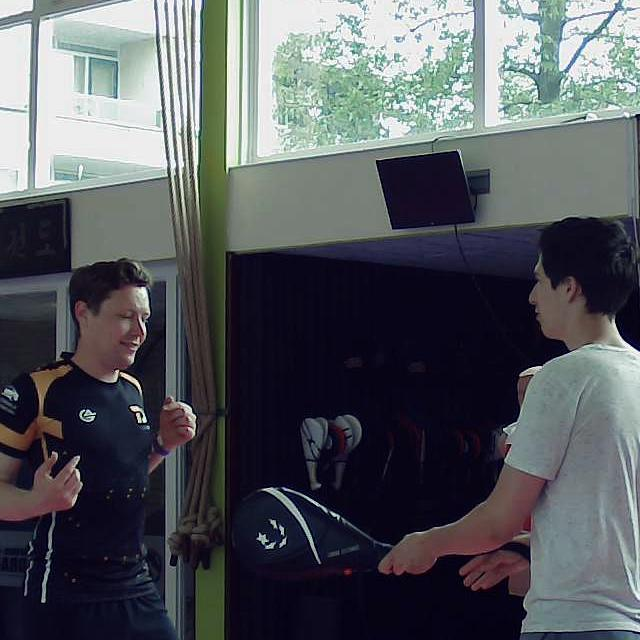paddle: (226, 484, 402, 583)
